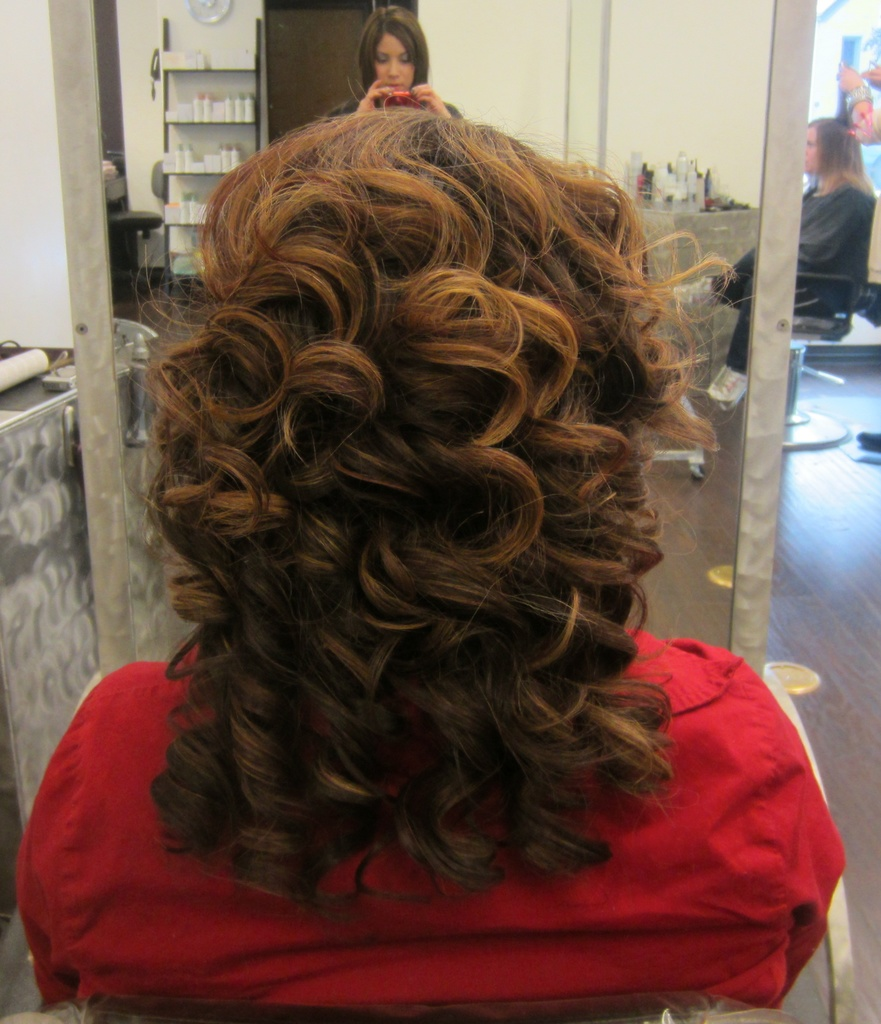Person: (314, 6, 477, 119)
